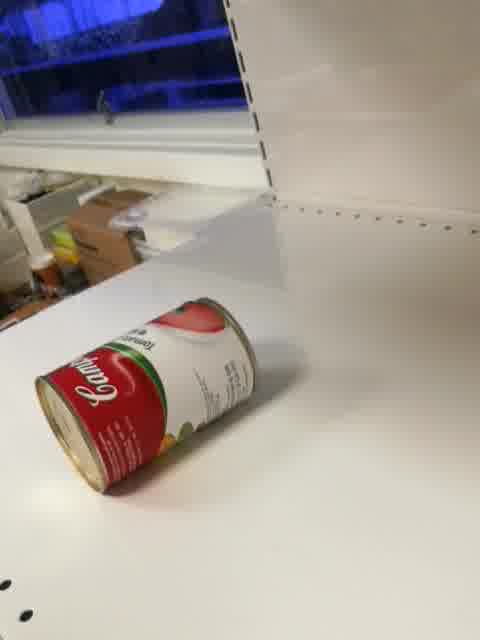tomatosoup: (32, 296, 260, 498)
